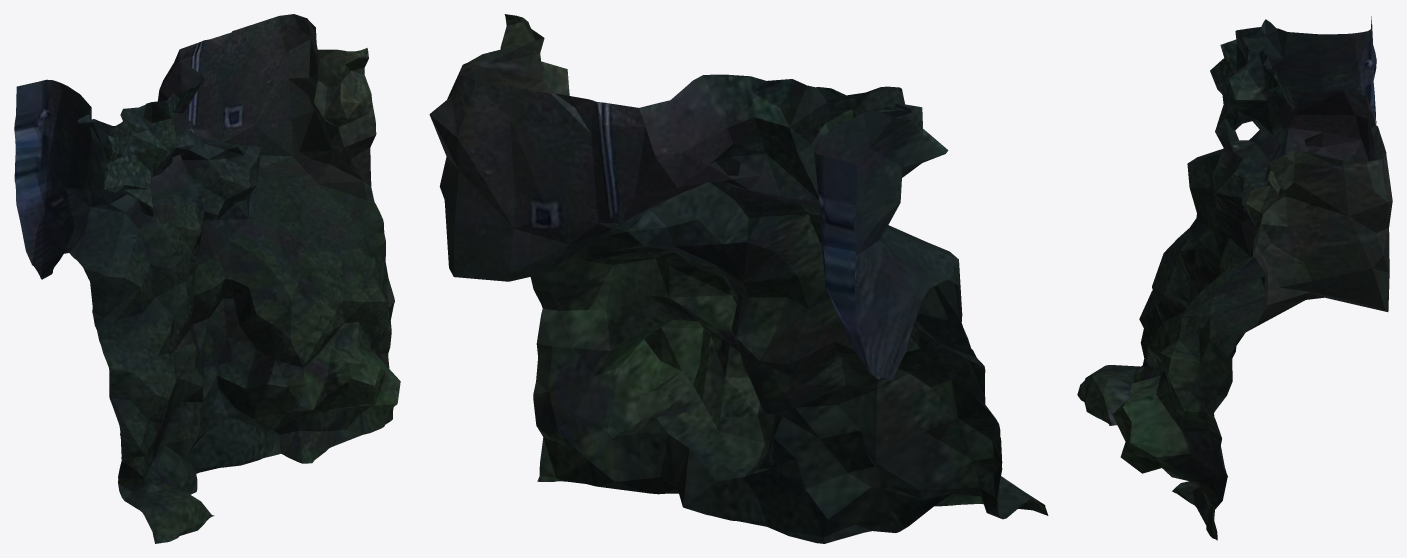
The model's file is tile_3_24_16_tex.obj.
3 renders of one model, left to right at view 1: azimuth 30°, elevation 25°; view 2: azimuth 150°, elevation 25°; view 3: azimuth 270°, elevation 25°, orthographic. The views are drawn at different scales.
Visible parts, largest first — view 1: obj_0; view 2: obj_0; view 3: obj_0.
Boxes of the visible parts, x1,y1,x2,y2 form: obj_0: [14, 14, 400, 543]; obj_0: [429, 14, 1048, 543]; obj_0: [1077, 16, 1392, 540].
Size of the model in its own units: 20.08 by 22.53 by 17.2.
Materials: 1 (1 with a texture image).
